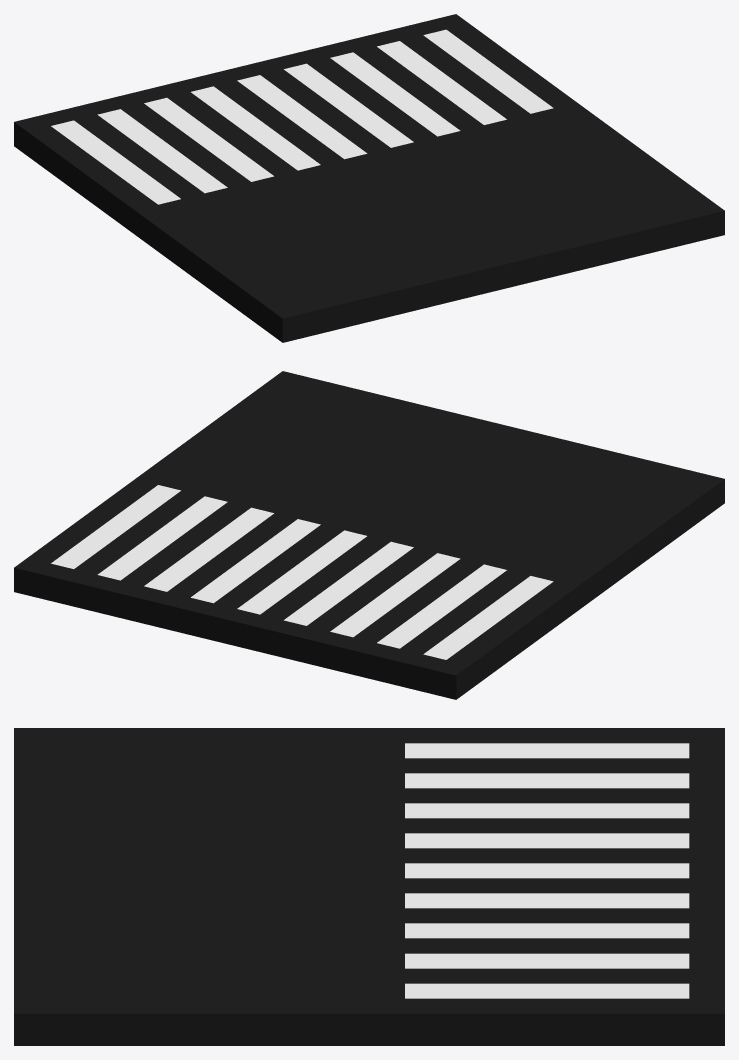
Rendered from ConstructionMaterials-63.obj.
3 renders of one model, top to bottom at view 1: azimuth 30°, elevation 25°; view 2: azimuth 150°, elevation 25°; view 3: azimuth 270°, elevation 25°, orthographic. The views are drawn at different scales.
Size of the model in its own units: 1.9 by 0.1 by 2.
Materials: 1 (1 with a texture image).
